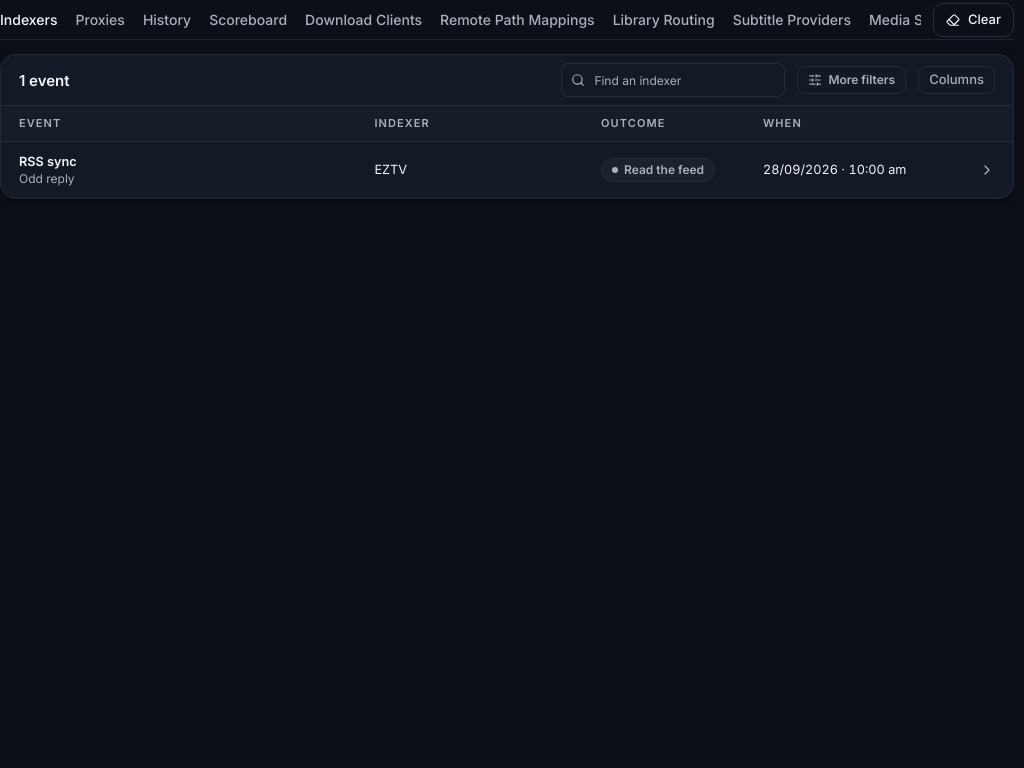
Test: Indexer History's list, drawer and clear (#1329) › detail that is not JSON shows as the raw text
Click the text "Odd reply".
click(47, 179)  # box [19,171,75,186]
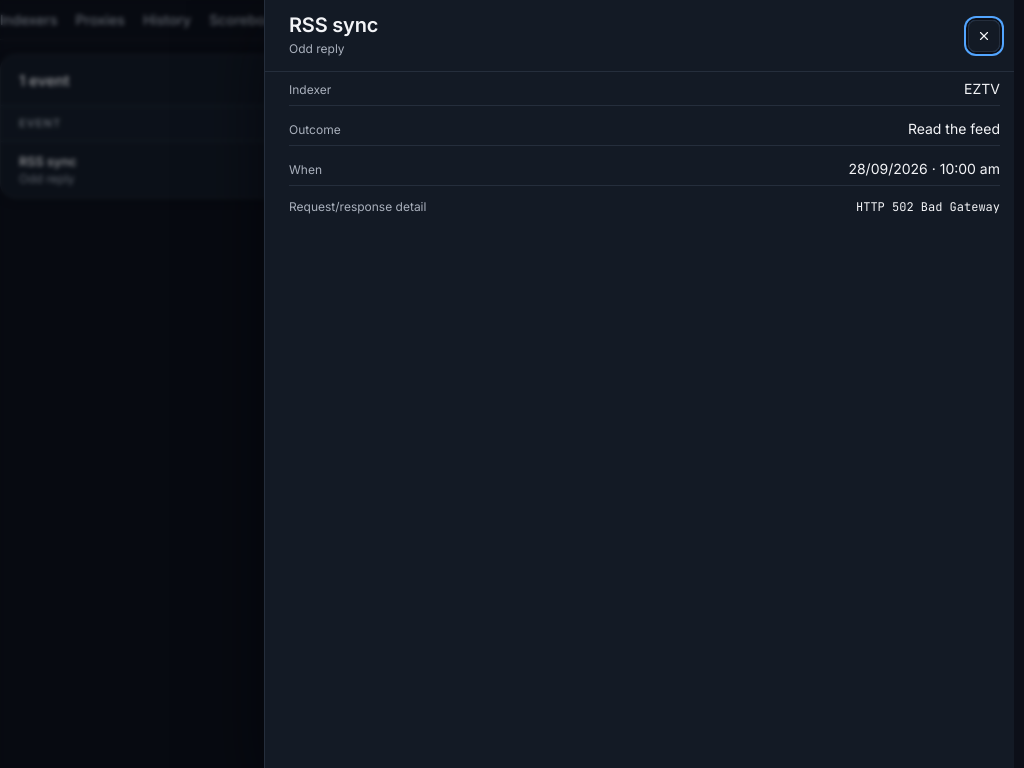
Expected: the text "HTTP 502 Bad Gateway" is shown, [856,198,1000,216]
